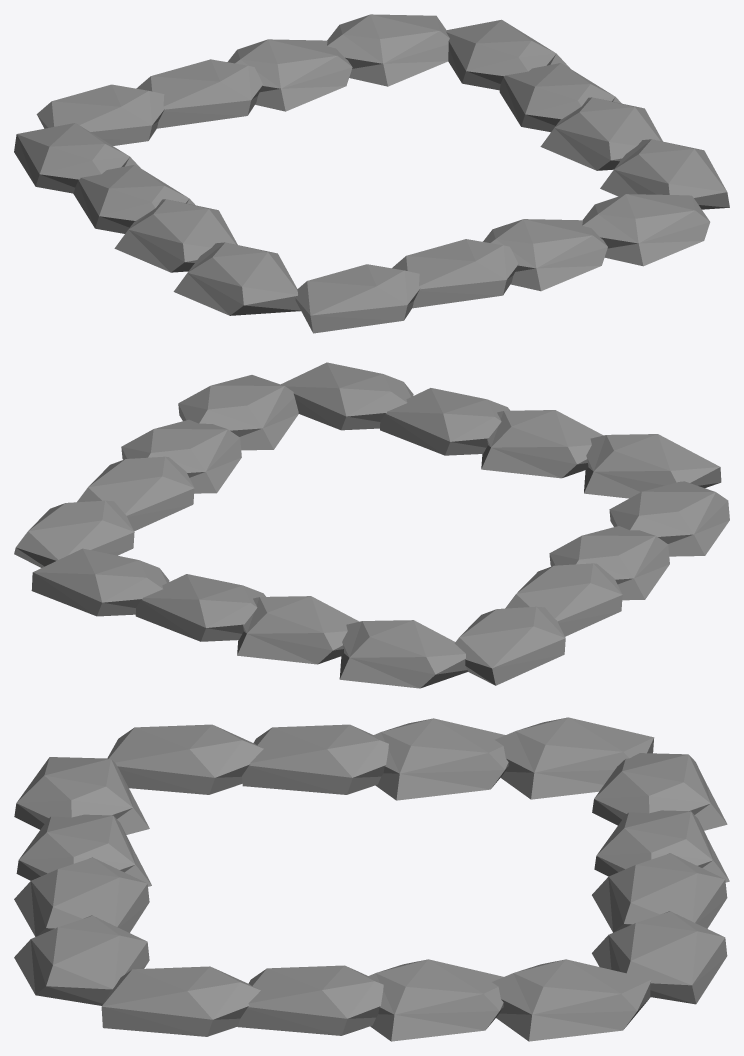
File: StageWall.fbx
The picture shows the model from 3 angles, top to bottom: view 1: azimuth 30°, elevation 25°; view 2: azimuth 150°, elevation 25°; view 3: azimuth 270°, elevation 25°; orthographic projection. The views are drawn at different scales.
Parts seen in each view (by area): view 1: Flat_Rock_01__1___1__1, Flat_Rock_01__1___1__9, Flat_Rock_01__1___1__5, Flat_Rock_01__1___1_, Flat_Rock_01__1___1__3, Flat_Rock_01__1___1__11, Flat_Rock_01__1___1__2, Flat_Rock_01__1___1__10, Flat_Rock_01__1___1__12, Flat_Rock_01__1___1__7, Flat_Rock_01__1___1__14, Flat_Rock_01__1___1__4 (+4 smaller); view 2: Flat_Rock_01__1___1__8, Flat_Rock_01__1___1_, Flat_Rock_01__1___1__9, Flat_Rock_01__1___1__2, Flat_Rock_01__1___1__10, Flat_Rock_01__1___1__4, Flat_Rock_01__1___1__5, Flat_Rock_01__1___1__1, Flat_Rock_01__1___1__11, Flat_Rock_01__1___1__3, Flat_Rock_01__1___1__12, Flat_Rock_01__1___1__13 (+4 smaller); view 3: Flat_Rock_01__1___1__13, Flat_Rock_01__1___1__12, Flat_Rock_01__1___1__4, Flat_Rock_01__1___1__15, Flat_Rock_01__1___1__6, Flat_Rock_01__1___1__7, Flat_Rock_01__1___1__5, Flat_Rock_01__1___1__14, Flat_Rock_01__1___1__1, Flat_Rock_01__1___1__9, Flat_Rock_01__1___1__3, Flat_Rock_01__1___1__11 (+4 smaller).
Boxes of the visible parts, box(x1,y1,x2,y2) form: Flat_Rock_01__1___1__1: box(582, 194, 710, 266); Flat_Rock_01__1___1__9: box(327, 14, 449, 86); Flat_Rock_01__1___1__5: box(173, 242, 300, 315); Flat_Rock_01__1___1_: box(295, 264, 420, 333); Flat_Rock_01__1___1__3: box(483, 219, 607, 291); Flat_Rock_01__1___1__11: box(227, 39, 352, 111); Flat_Rock_01__1___1__2: box(392, 239, 518, 308); Flat_Rock_01__1___1__10: box(136, 59, 262, 128); Flat_Rock_01__1___1__12: box(600, 139, 729, 209); Flat_Rock_01__1___1__7: box(114, 199, 237, 272); Flat_Rock_01__1___1__14: box(540, 97, 662, 170); Flat_Rock_01__1___1__4: box(14, 123, 140, 193); Flat_Rock_01__1___1__8: box(339, 620, 467, 688); Flat_Rock_01__1___1_: box(584, 434, 721, 498); Flat_Rock_01__1___1__9: box(31, 548, 169, 616); Flat_Rock_01__1___1__2: box(481, 410, 603, 478); Flat_Rock_01__1___1__10: box(237, 596, 358, 664); Flat_Rock_01__1___1__4: box(454, 606, 565, 685); Flat_Rock_01__1___1__5: box(609, 481, 729, 556); Flat_Rock_01__1___1__1: box(281, 362, 413, 430); Flat_Rock_01__1___1__11: box(135, 574, 265, 641); Flat_Rock_01__1___1__3: box(380, 388, 509, 455); Flat_Rock_01__1___1__12: box(178, 375, 298, 450); Flat_Rock_01__1___1__13: box(14, 500, 134, 567); Flat_Rock_01__1___1__13: box(492, 959, 651, 1041); Flat_Rock_01__1___1__12: box(101, 966, 260, 1036); Flat_Rock_01__1___1__4: box(495, 717, 654, 799); Flat_Rock_01__1___1__15: box(367, 959, 503, 1041); Flat_Rock_01__1___1__6: box(372, 718, 508, 800); Flat_Rock_01__1___1__7: box(242, 724, 388, 794); Flat_Rock_01__1___1__5: box(107, 724, 263, 794); Flat_Rock_01__1___1__14: box(237, 965, 383, 1035); Flat_Rock_01__1___1__1: box(14, 915, 149, 1005); Flat_Rock_01__1___1__9: box(592, 911, 727, 1004); Flat_Rock_01__1___1__3: box(14, 857, 149, 936); Flat_Rock_01__1___1__11: box(592, 853, 727, 932).
Size of the model in its own units: 9161 by 574 by 9258.
1 material, 1 textured.
